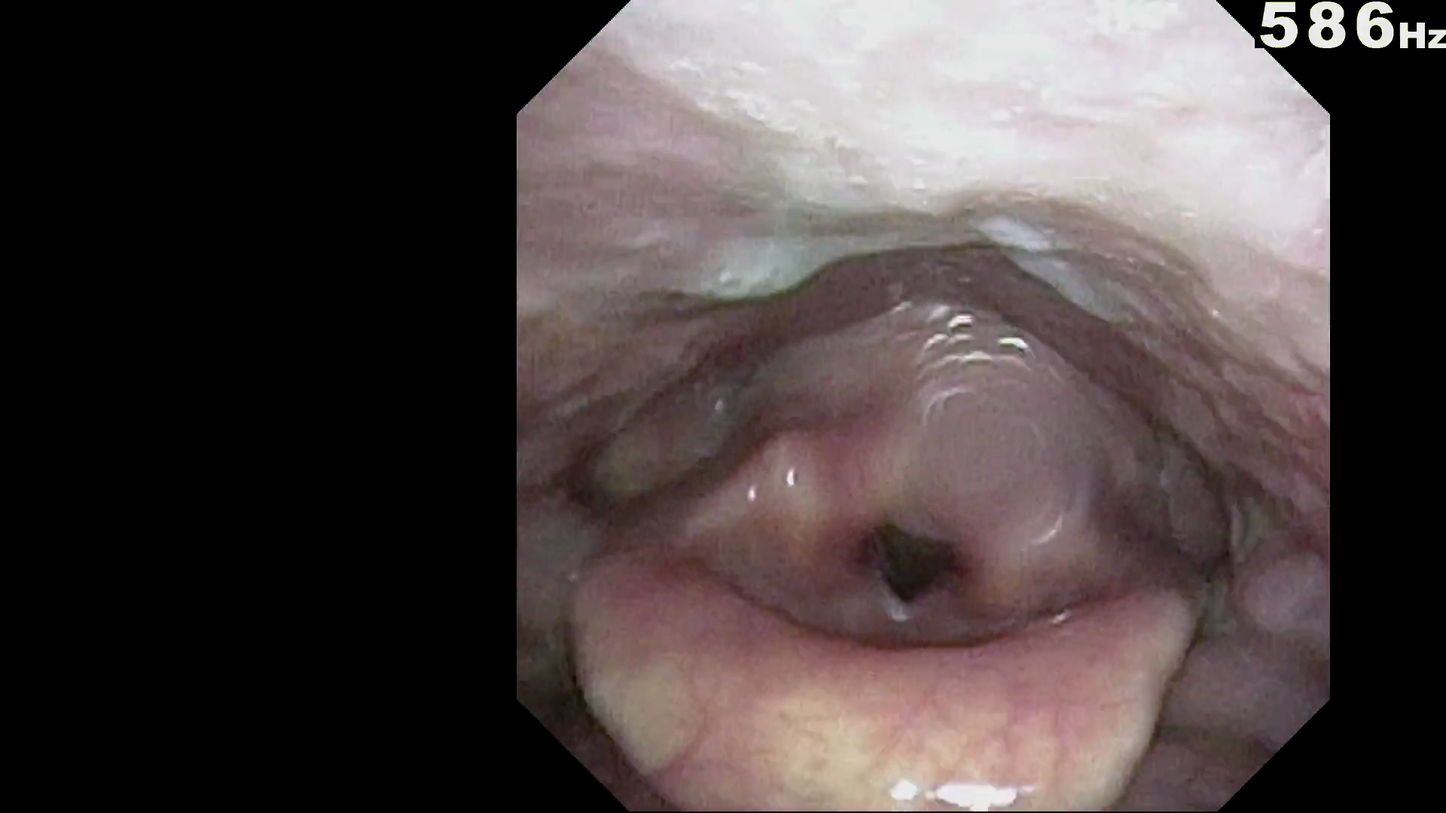epiglottis: (615, 654, 1196, 780)
trachea: (849, 520, 973, 647)
